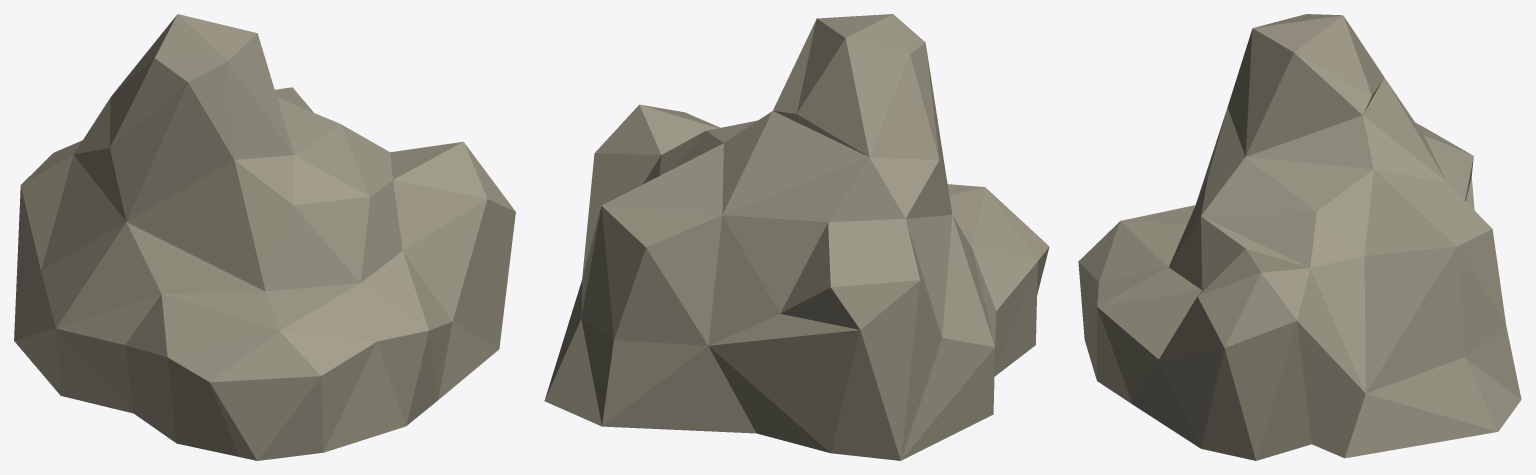
Rendered from rock2.fbx.
3 views of the same model, side by side, from view 1: azimuth 30°, elevation 25°; view 2: azimuth 150°, elevation 25°; view 3: azimuth 270°, elevation 25° (orthographic). The views are drawn at different scales.
Visible parts, largest first — view 1: Rock2; view 2: Rock2; view 3: Rock2.
Boxes of the visible parts, x1,y1,x2,y2 form: Rock2: [14, 14, 515, 460]; Rock2: [544, 14, 1049, 460]; Rock2: [1078, 14, 1521, 460].
Bounding box in the file's own units: 1299 × 1037 × 1297.
